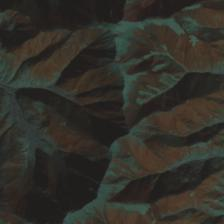landslides: (189, 20, 224, 30)
